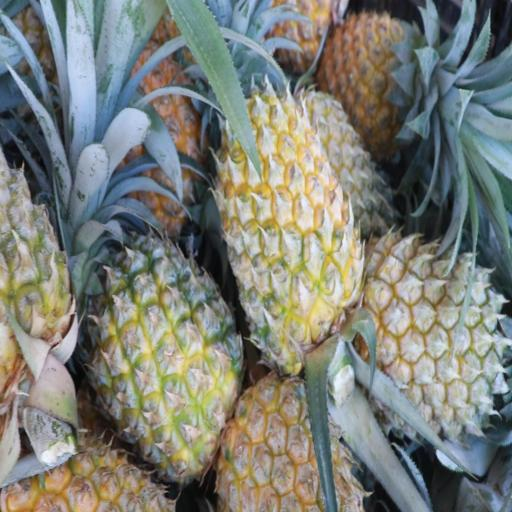------------------------------: (90, 236, 235, 464), (360, 233, 512, 430)
Pineapple - v8 v1: (213, 85, 361, 346), (324, 14, 454, 152), (226, 375, 351, 512)
